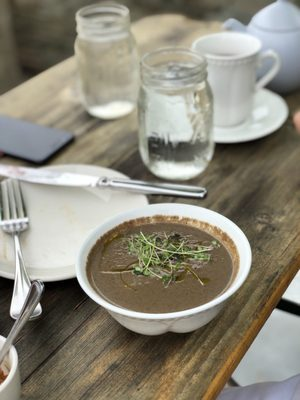burger: (0, 178, 45, 320), (0, 177, 31, 321)
pizza: (136, 48, 215, 180), (192, 32, 282, 128), (74, 2, 141, 120), (222, 0, 300, 95), (246, 0, 300, 96)
sushi: (74, 202, 253, 337)
